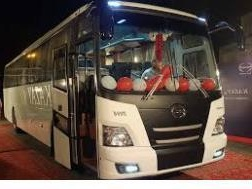bus: (2, 0, 247, 180)
